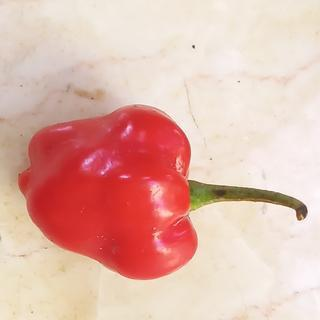Grade-B: (12, 98, 202, 283)
